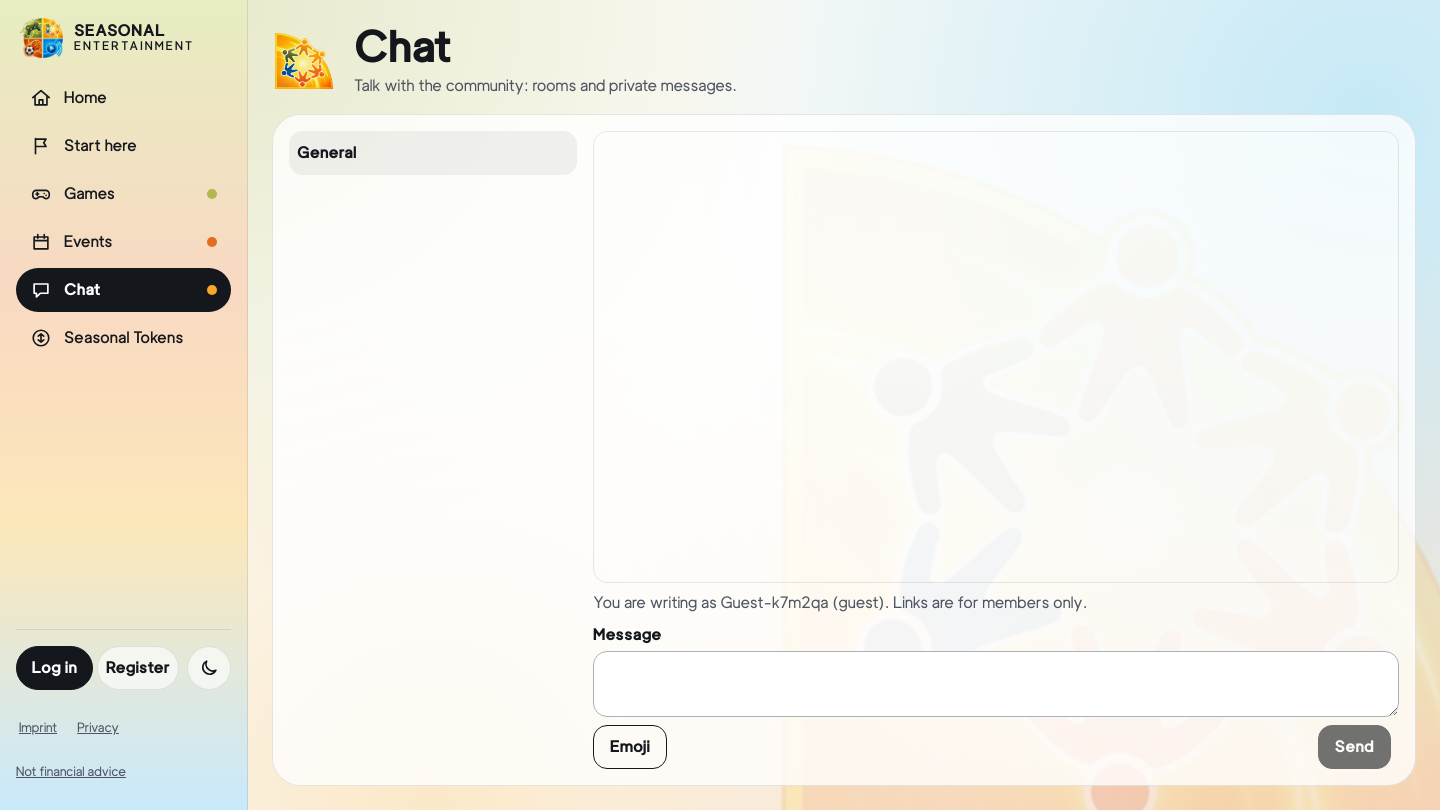
emoji picker › a guest puts an emoji at the cursor and sends it as text
The image size is (1440, 810).
Step 1. Type "Hi all" into the text box labelled "Message" → [996, 684], box left=593, top=651, right=1399, bottom=717
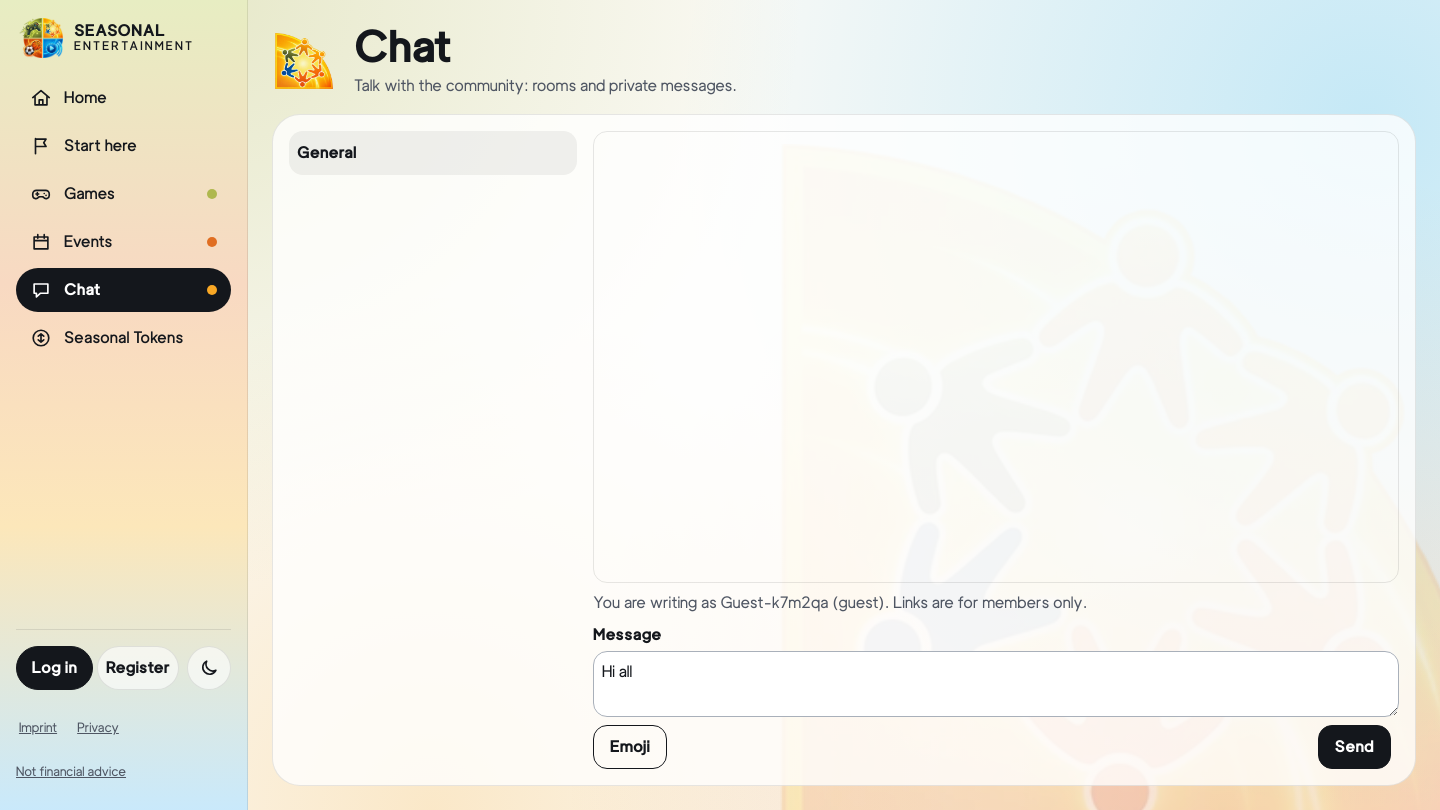
Step 2. Click the button "Emoji" → [630, 747], box left=593, top=725, right=667, bottom=769
(page scrolled)
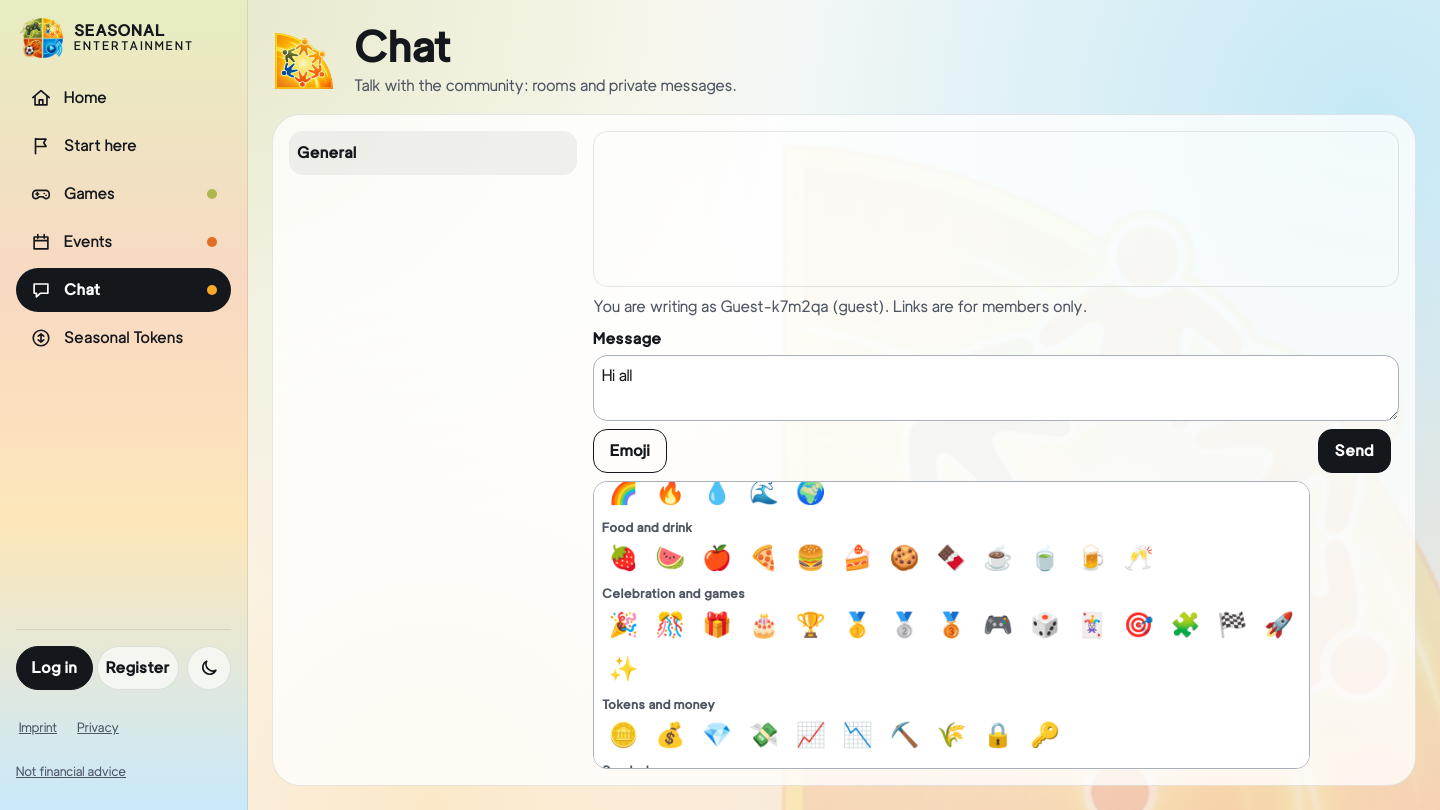
Step 3. Click the button named "party popper" → [623, 625], box left=602, top=605, right=645, bottom=645
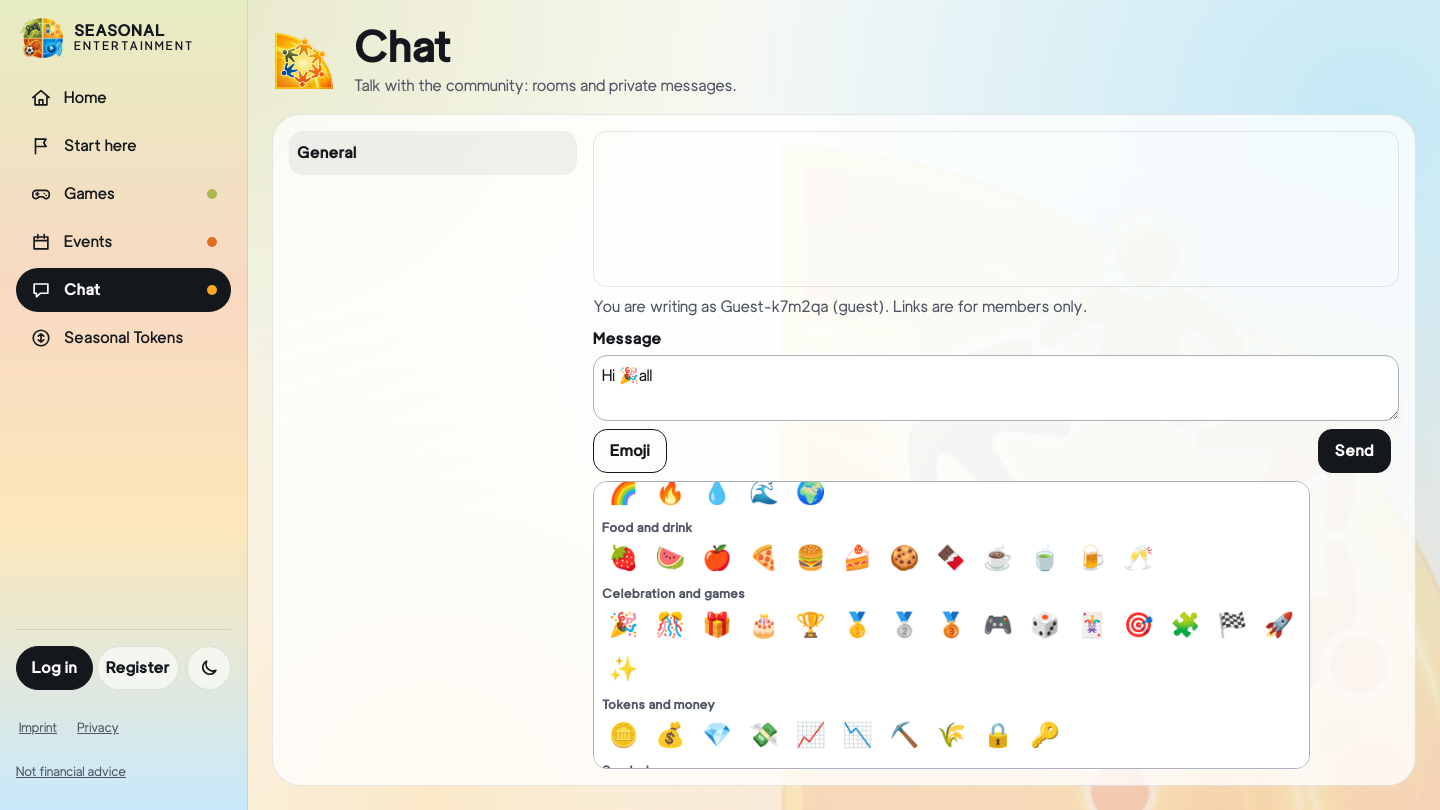
Now the text box labelled "Message" holds "Hi 🎉all", box left=593, top=355, right=1399, bottom=421
Step 4. Click the button "Send" → [1354, 451], box left=1318, top=429, right=1391, bottom=473
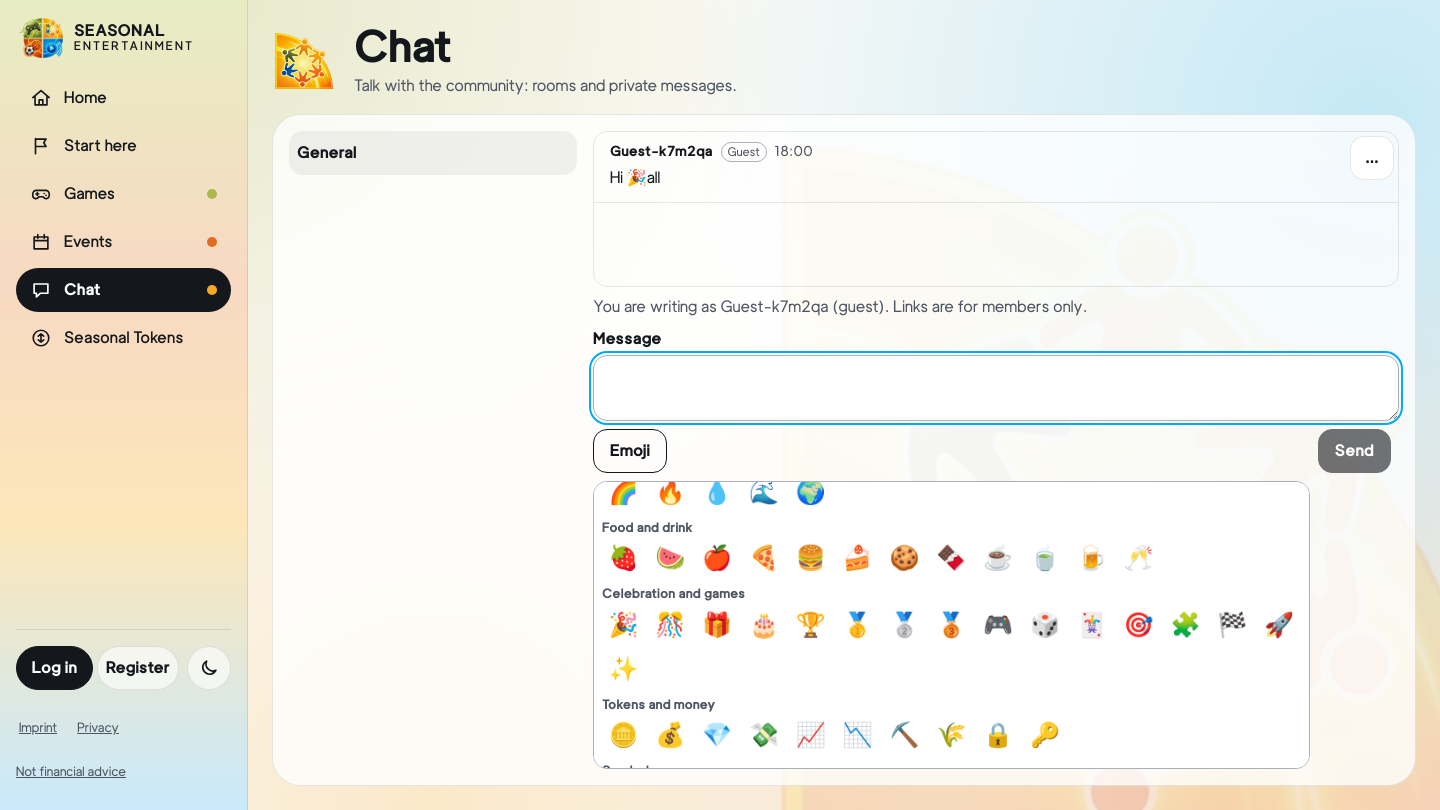
Now the text "Hi 🎉all" is shown, box left=610, top=168, right=660, bottom=187
